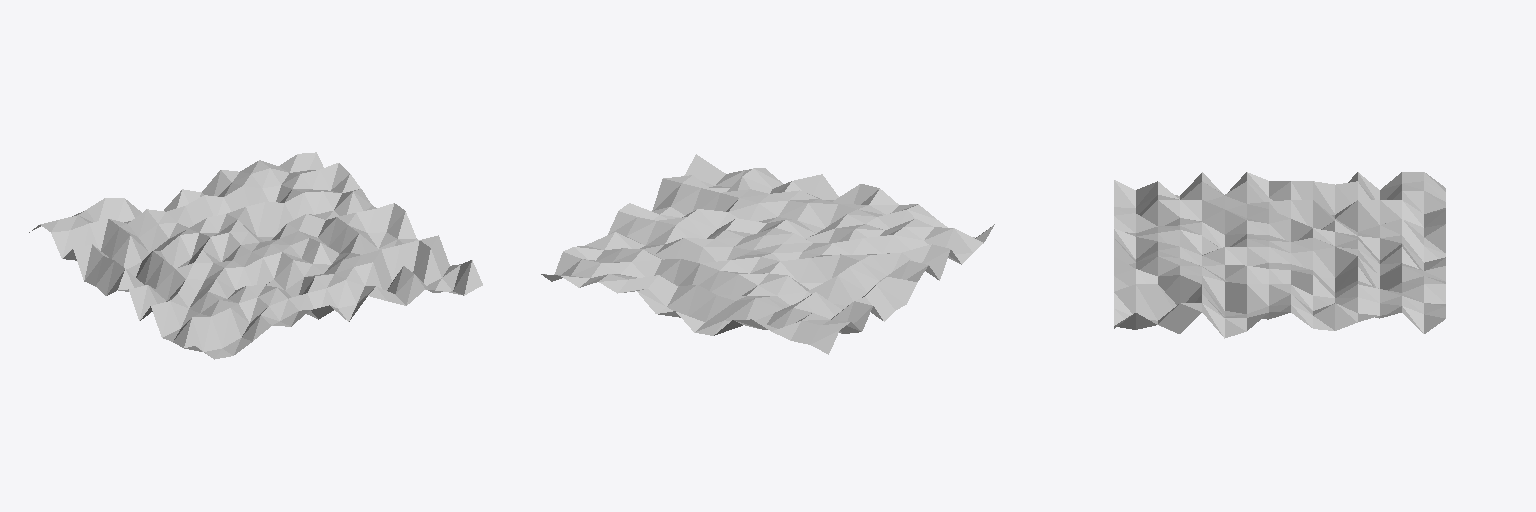
The model's file is noisyPlane.obj.
3 renders of one model, left to right at view 1: azimuth 30°, elevation 25°; view 2: azimuth 150°, elevation 25°; view 3: azimuth 270°, elevation 25°, orthographic.
Parts seen in each view (by area): view 1: Landscape.001; view 2: Landscape.001; view 3: Landscape.001.
Boxes of the visible parts, x1=… form: Landscape.001: x1=29, y1=152, x2=482, y2=359; Landscape.001: x1=541, y1=154, x2=994, y2=354; Landscape.001: x1=1114, y1=172, x2=1445, y2=338.
Bounding box in the file's own units: 10 × 0.92 × 10.